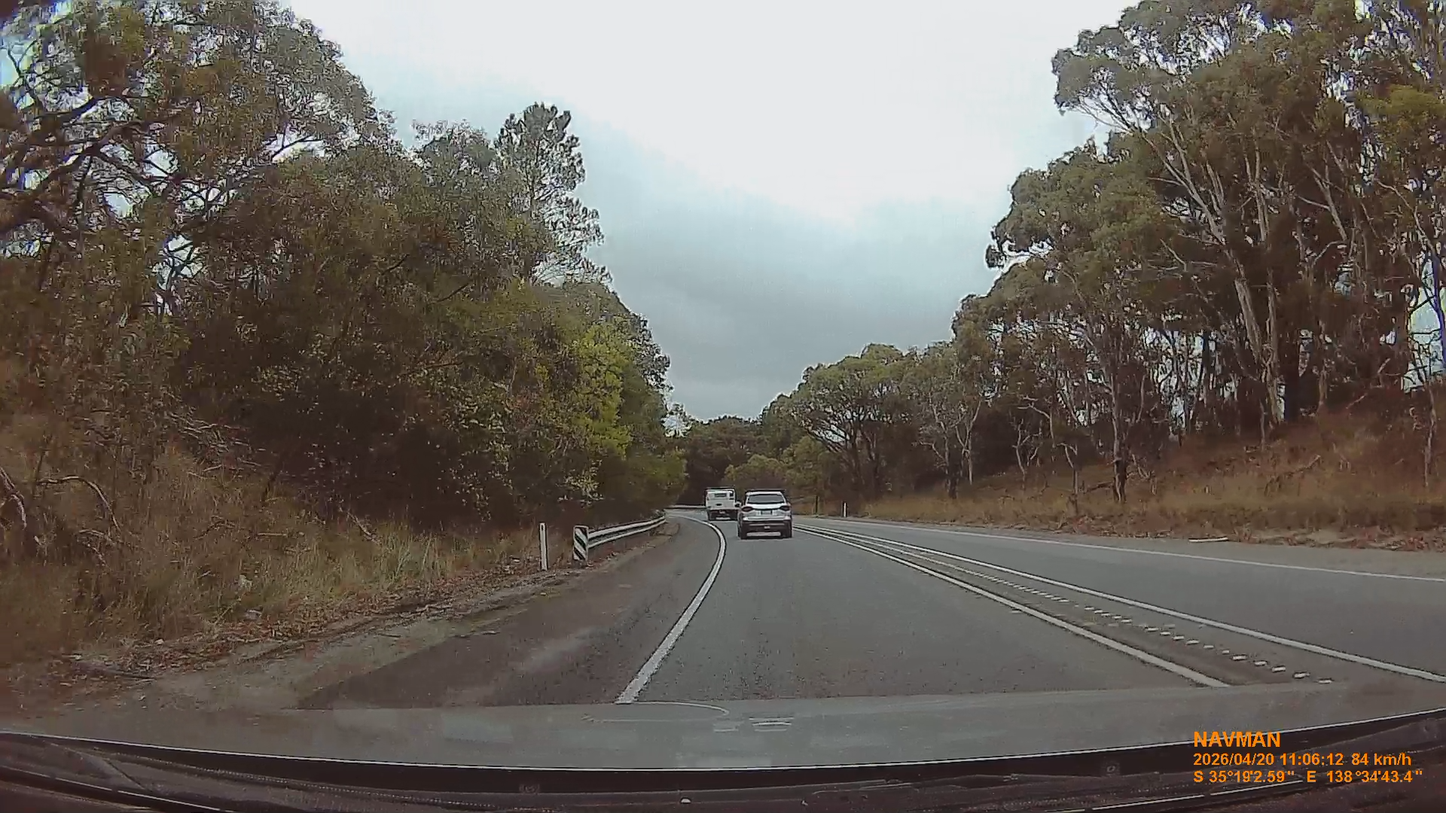road barriers: (572, 514, 667, 563)
